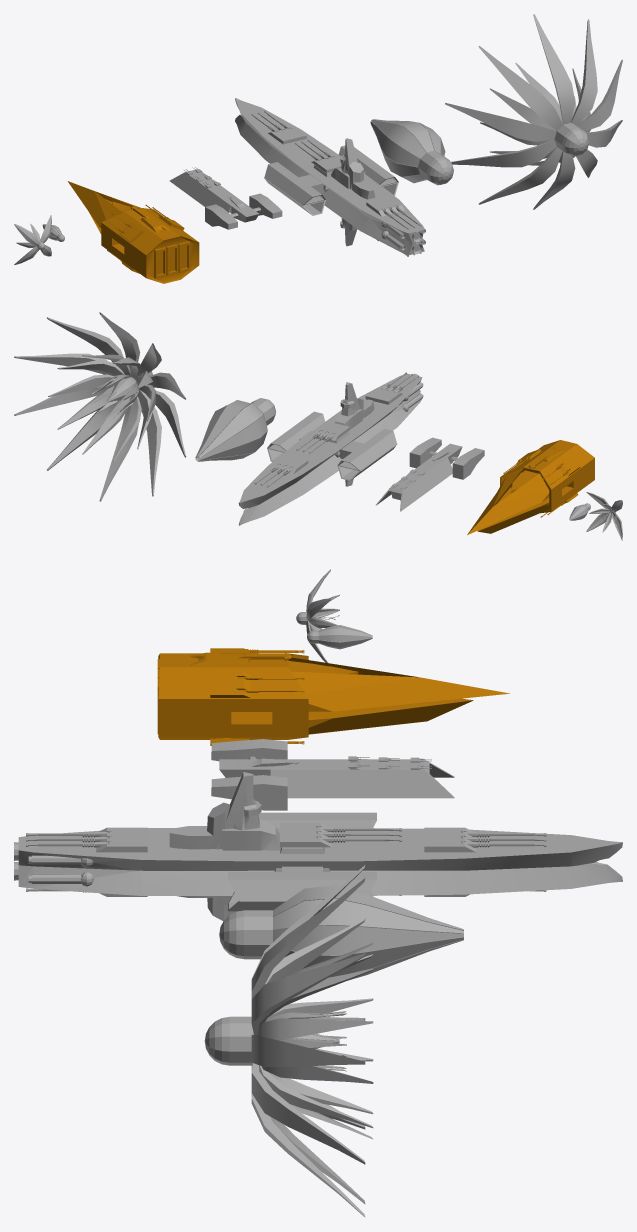
File: FleetsScaled.fbx
3 views of the same model, one above another, from view 1: azimuth 30°, elevation 25°; view 2: azimuth 150°, elevation 25°; view 3: azimuth 270°, elevation 25° (orthographic). The views are drawn at different scales.
Parts seen in each view (by area): view 1: polySurface129, polySurface148, pCube30, polySurface85, polySurface93, polySurface88, polySurface91, polySurface90, polySurface89, polySurface92, polySurface103, polySurface102 (+11 smaller); view 2: polySurface129, polySurface148, pCube30, polySurface86, polySurface103, polySurface89, polySurface102, polySurface90, polySurface92, polySurface94, polySurface87, polySurface91 (+14 smaller); view 3: polySurface129, polySurface148, pCube30, polySurface105, polySurface106, polySurface90, polySurface94, polySurface92, polySurface130, polySurface127, polySurface128, polySurface88 (+16 smaller).
Part boxes in pixels (x1=…): polySurface129: x1=235, y1=98, x2=425, y2=255; polySurface148: x1=67, y1=181, x2=199, y2=283; pCube30: x1=169, y1=169, x2=282, y2=229; polySurface85: x1=478, y1=46, x2=562, y2=130; polySurface93: x1=445, y1=103, x2=556, y2=141; polySurface88: x1=533, y1=14, x2=575, y2=124; polySurface91: x1=451, y1=139, x2=556, y2=167; polySurface90: x1=571, y1=19, x2=597, y2=125; polySurface89: x1=478, y1=147, x2=562, y2=204; polySurface92: x1=578, y1=59, x2=622, y2=131; polySurface103: x1=371, y1=119, x2=426, y2=158; polySurface102: x1=370, y1=121, x2=419, y2=166; polySurface129: x1=238, y1=373, x2=423, y2=525; polySurface148: x1=467, y1=440, x2=594, y2=535; pCube30: x1=375, y1=437, x2=484, y2=511; polySurface86: x1=47, y1=401, x2=118, y2=470; polySurface103: x1=199, y1=403, x2=263, y2=457; polySurface89: x1=138, y1=396, x2=161, y2=496; polySurface102: x1=200, y1=413, x2=267, y2=459; polySurface90: x1=47, y1=317, x2=123, y2=372; polySurface92: x1=14, y1=353, x2=115, y2=376; polySurface94: x1=14, y1=385, x2=114, y2=415; polySurface87: x1=99, y1=397, x2=138, y2=501; polySurface91: x1=142, y1=390, x2=186, y2=457; polySurface129: x1=14, y1=772, x2=622, y2=921; polySurface148: x1=157, y1=653, x2=509, y2=739; pCube30: x1=211, y1=739, x2=454, y2=810; polySurface105: x1=273, y1=898, x2=463, y2=933; polySurface106: x1=273, y1=925, x2=463, y2=955; polySurface90: x1=251, y1=953, x2=365, y2=1035; polySurface94: x1=251, y1=1063, x2=365, y2=1164; polySurface92: x1=251, y1=1035, x2=365, y2=1066; polySurface130: x1=424, y1=827, x2=546, y2=852; polySurface127: x1=26, y1=827, x2=147, y2=852; polySurface128: x1=280, y1=822, x2=401, y2=847; polySurface88: x1=251, y1=878, x2=365, y2=998.
Size of the model in its own units: 28.98 by 8.75 by 14.82.
